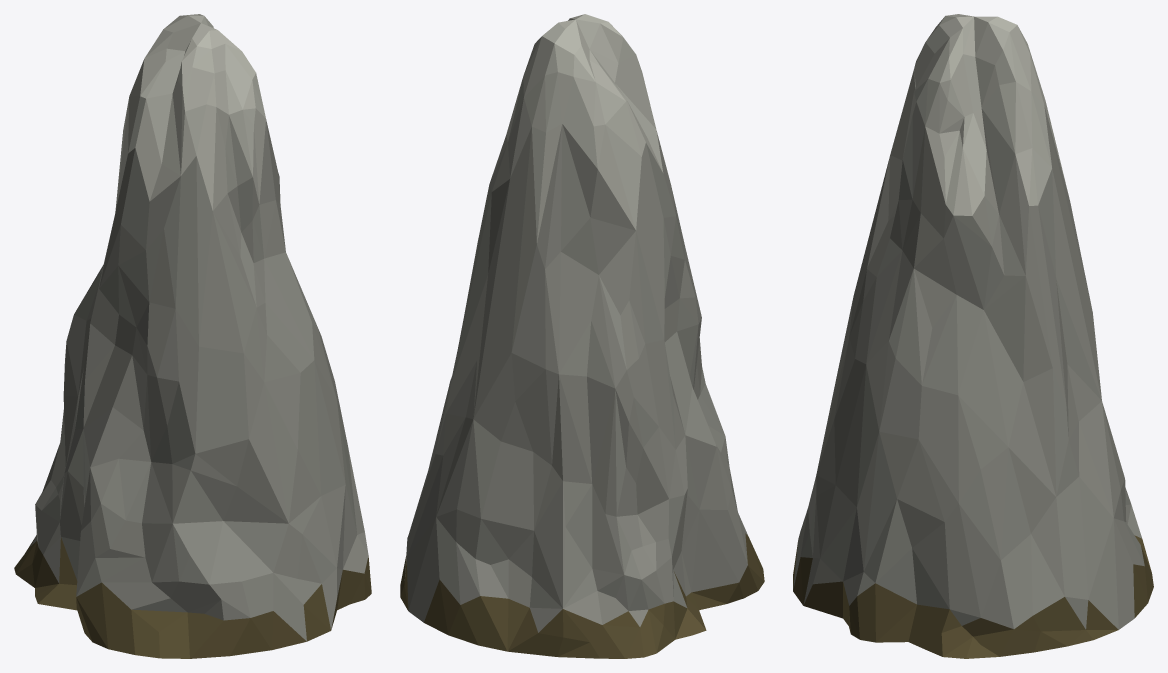
File: mountain_c.glb
The picture shows the model from 3 angles, left to right: view 1: azimuth 30°, elevation 25°; view 2: azimuth 150°, elevation 25°; view 3: azimuth 270°, elevation 25°; orthographic projection.
Size of the model in its own units: 1.08 by 1.91 by 1.1.
